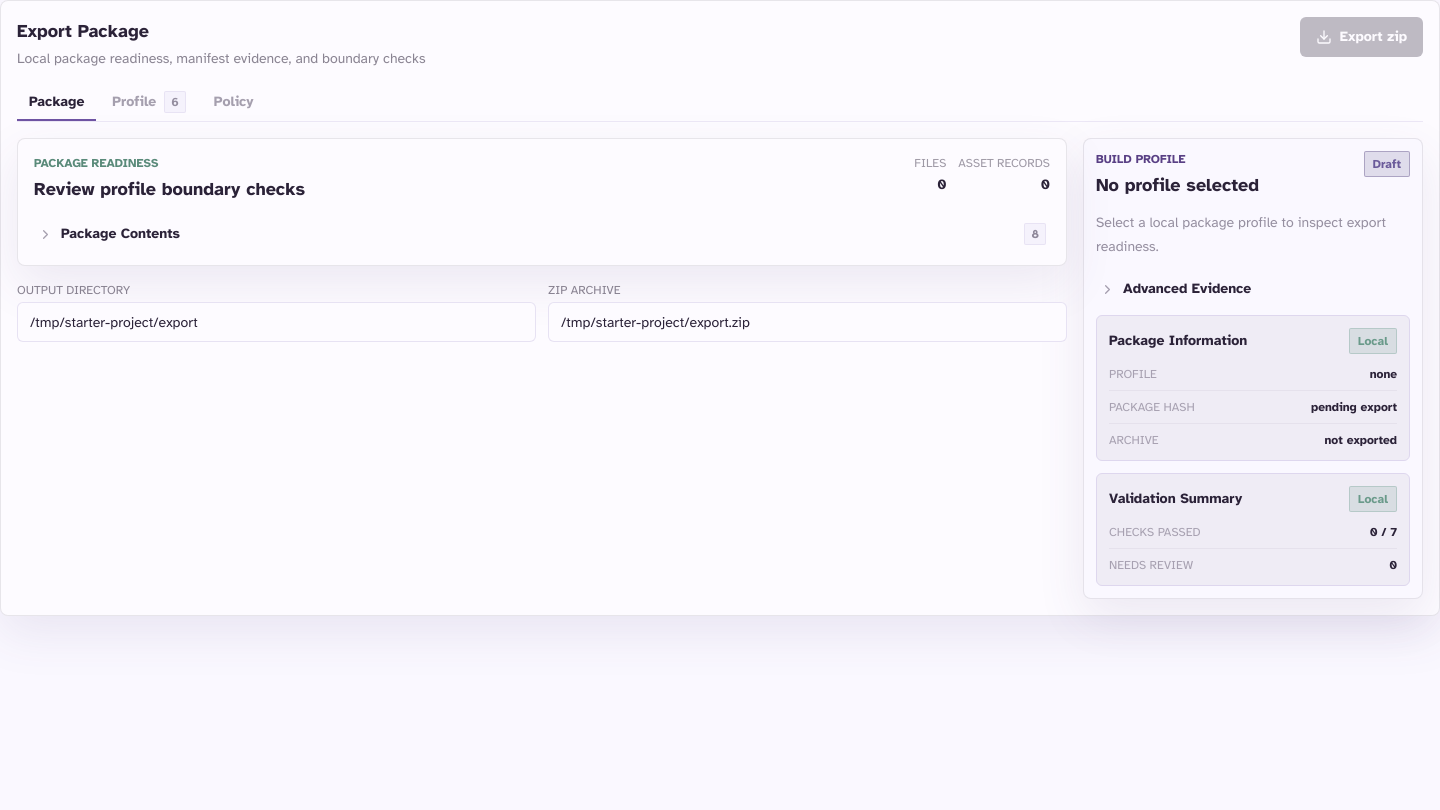
Scenario: ExportView › shows AI Safety Policy editor when aiSafetyPolicy is provided
// The Safety Policy editor lives on the Policy tab.
Click the tab "Policy": (234, 103) x1=202 y1=85 x2=266 y2=121
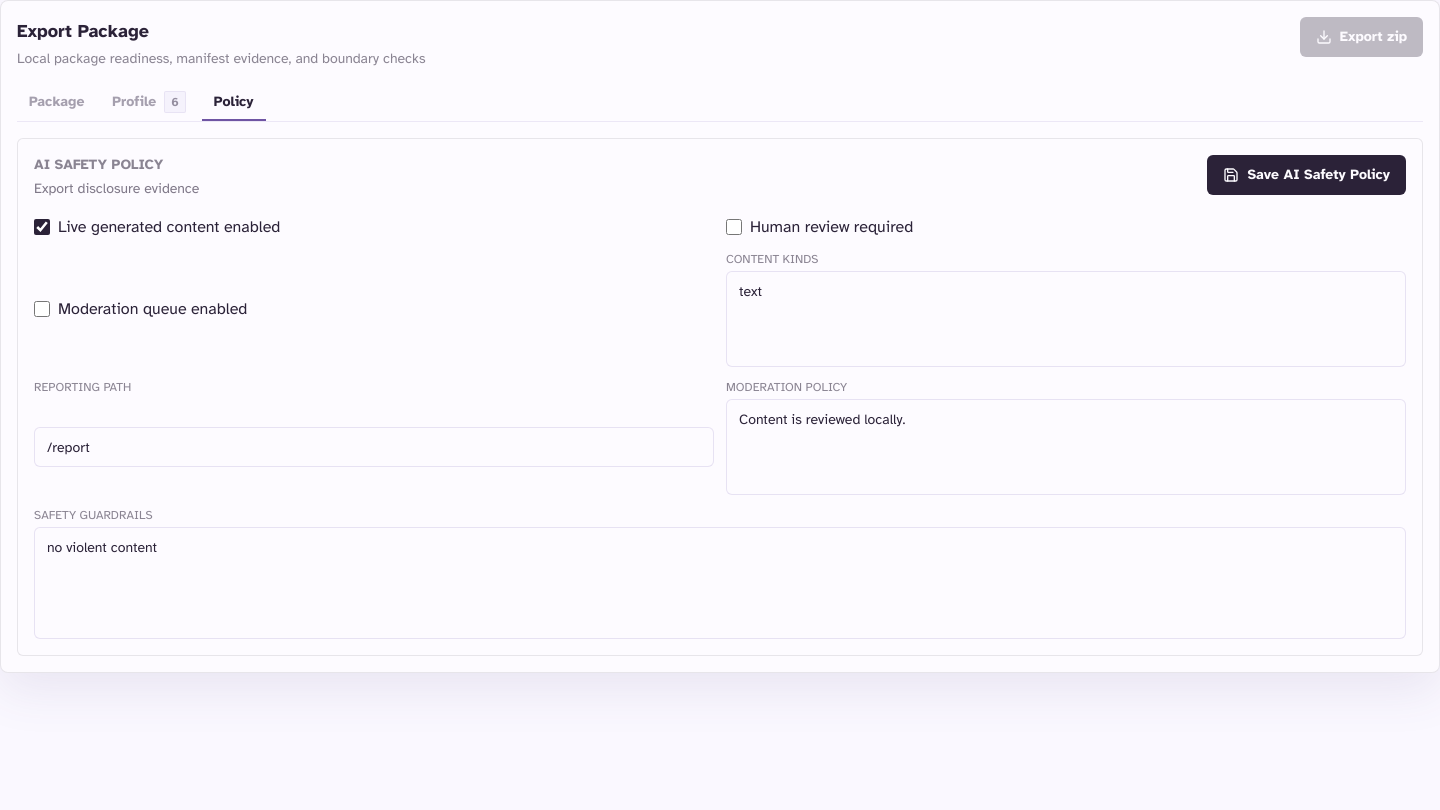
Now the heading "AI Safety Policy" is shown, box x1=34 y1=156 x2=163 y2=173
Now the button "Save AI Safety Policy" is shown, box x1=1207 y1=155 x2=1406 y2=195
Now the text box named "AI safety content kinds" is shown, box x1=726 y1=271 x2=1406 y2=367
